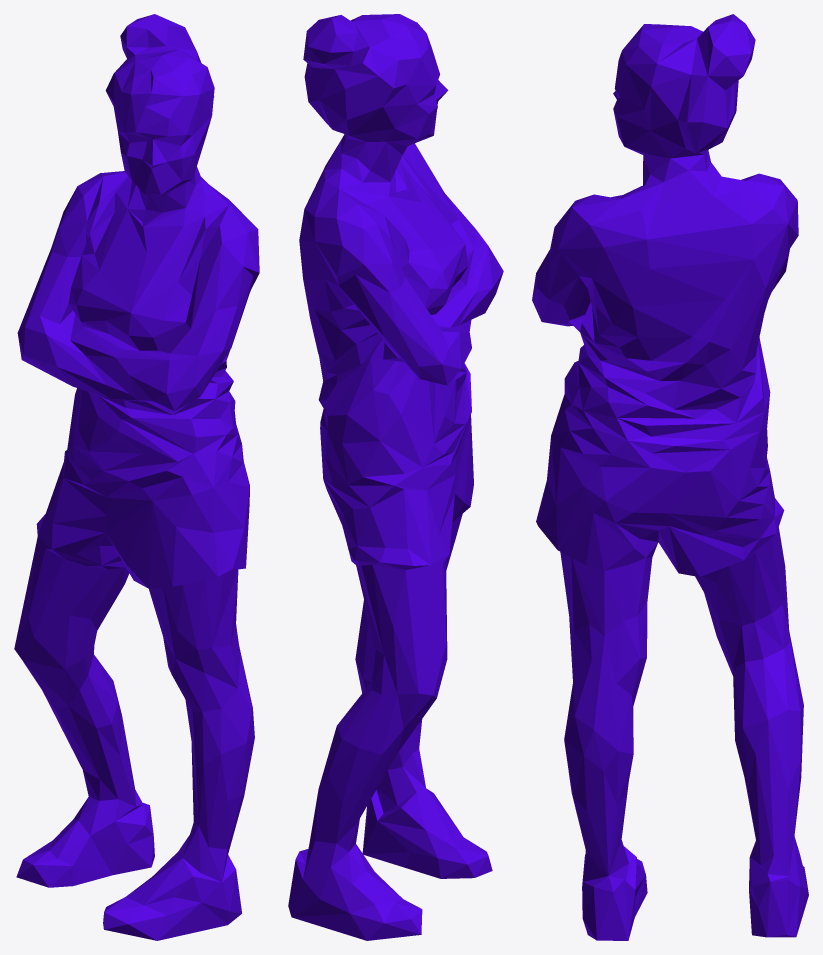
Rendered from per1.fbx.
3 views of the same model, side by side, from view 1: azimuth 30°, elevation 25°; view 2: azimuth 150°, elevation 25°; view 3: azimuth 270°, elevation 25° (orthographic). The views are drawn at different scales.
Parts seen in each view (by area): view 1: lowpolyCharacterBorder_089; view 2: lowpolyCharacterBorder_089; view 3: lowpolyCharacterBorder_089.
Boxes of the visible parts, box(x1,y1,x2,y2) form: lowpolyCharacterBorder_089: box(14, 14, 259, 940); lowpolyCharacterBorder_089: box(288, 14, 503, 940); lowpolyCharacterBorder_089: box(532, 14, 808, 940).
Size of the model in its own units: 33.91 by 159 by 43.82.
